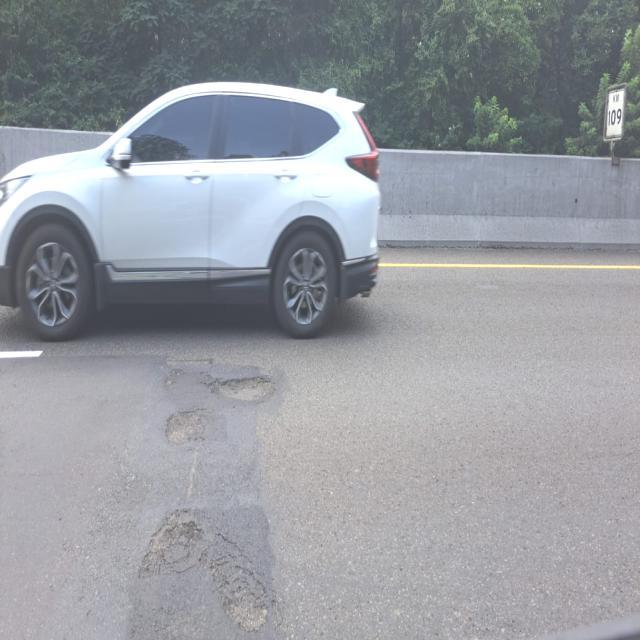Buraco: (134, 505, 206, 581), (219, 584, 273, 635), (203, 375, 279, 404), (162, 407, 212, 448)
